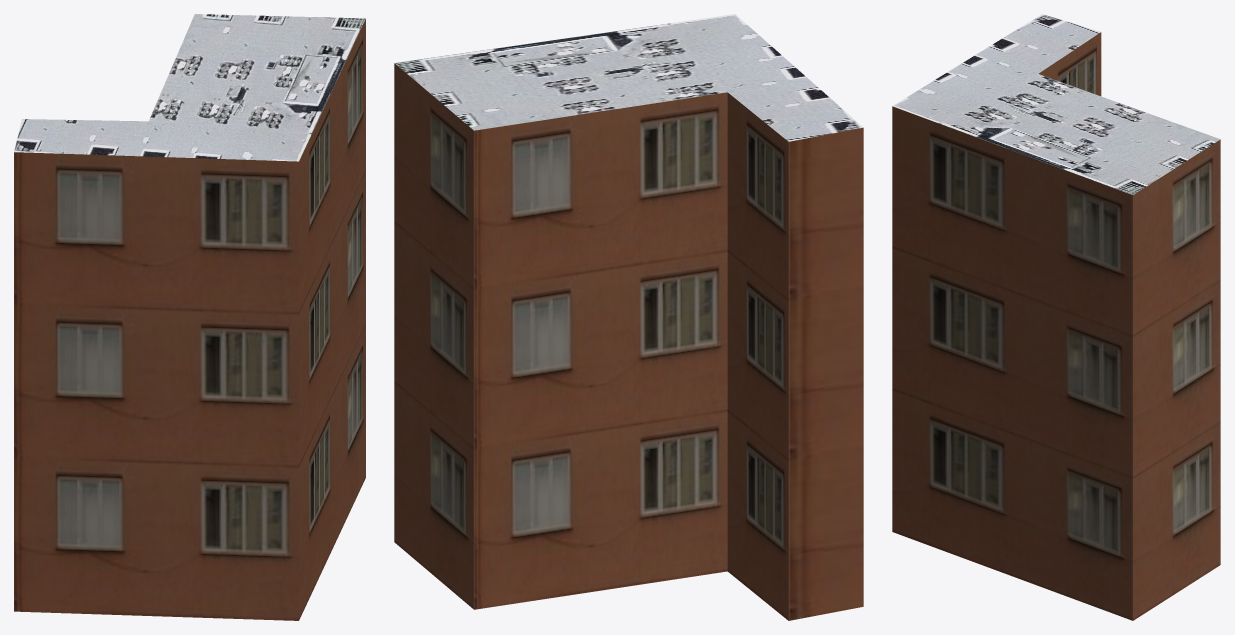
File: ResTex__3355.fbx
The picture shows the model from 3 angles, left to right: view 1: azimuth 30°, elevation 25°; view 2: azimuth 150°, elevation 25°; view 3: azimuth 270°, elevation 25°; orthographic projection. The views are drawn at different scales.
Parts seen in each view (by area): view 1: CityEngineMaterial_20_m, CityEngineMaterial_8_m; view 2: CityEngineMaterial_20_m, CityEngineMaterial_8_m; view 3: CityEngineMaterial_20_m, CityEngineMaterial_8_m.
Boxes of the visible parts, x1,y1,x2,y2 form: CityEngineMaterial_20_m: (14, 19, 365, 620); CityEngineMaterial_8_m: (14, 14, 365, 161); CityEngineMaterial_20_m: (394, 63, 863, 620); CityEngineMaterial_8_m: (394, 14, 863, 141); CityEngineMaterial_20_m: (892, 32, 1220, 620); CityEngineMaterial_8_m: (892, 14, 1220, 194).
Size of the model in its own units: 8.22 by 9 by 6.29.
2 materials, 2 textured.
